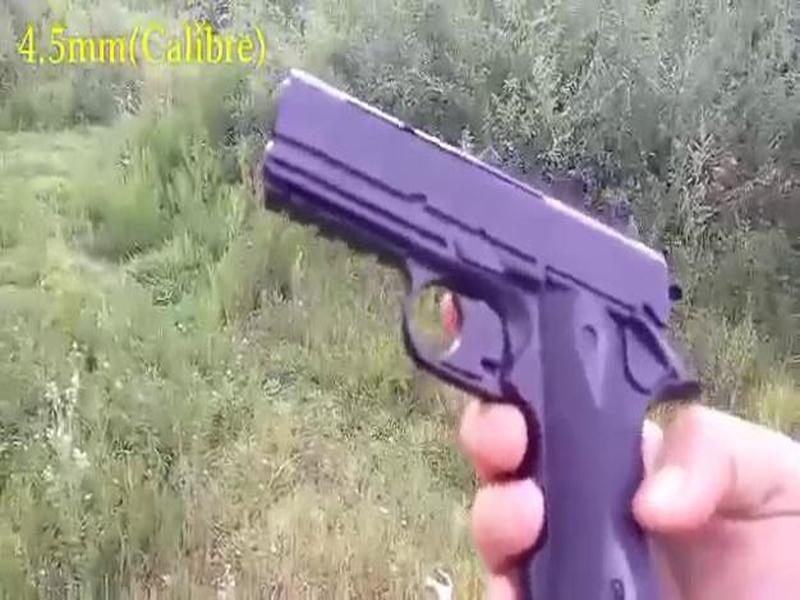Pistola: (219, 44, 714, 600)
